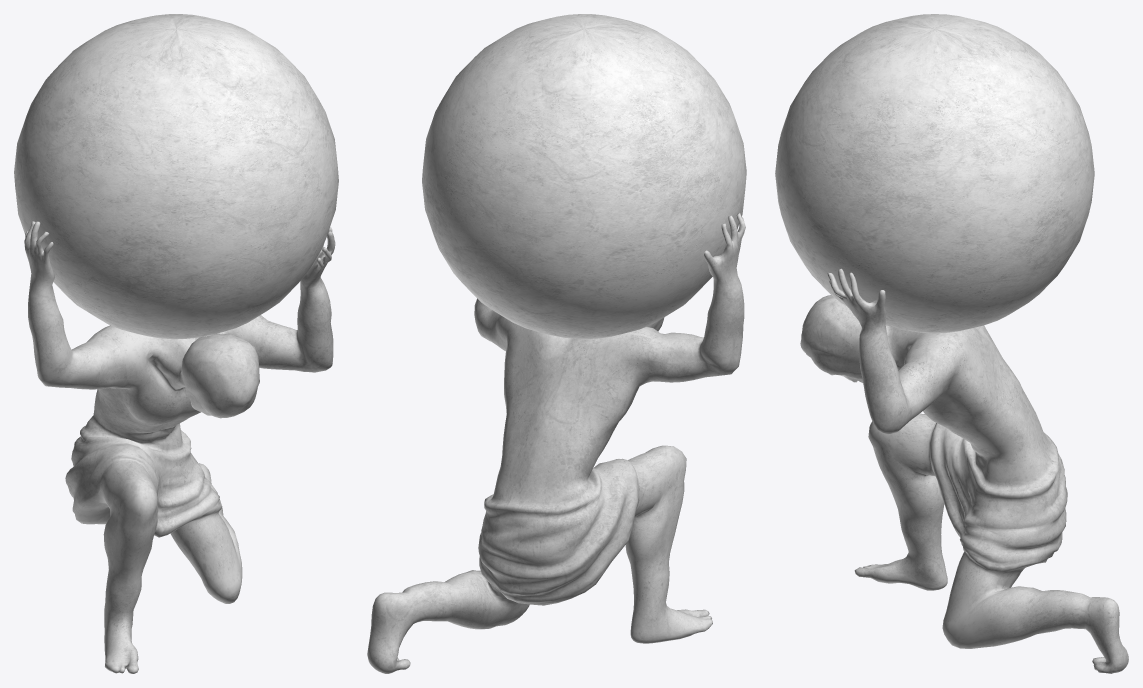
The model's file is RC_Statue_08.gltf.
The picture shows the model from 3 angles, left to right: view 1: azimuth 30°, elevation 25°; view 2: azimuth 150°, elevation 25°; view 3: azimuth 270°, elevation 25°; orthographic projection.
Visible parts, largest first — view 1: RC_Statue_08(Clone); view 2: RC_Statue_08(Clone); view 3: RC_Statue_08(Clone).
Part boxes in pixels (x1,y1,x2,y2): RC_Statue_08(Clone): (14,14,338,673); RC_Statue_08(Clone): (367,14,746,673); RC_Statue_08(Clone): (775,14,1128,673).
Size of the model in its own units: 2.61 by 5.12 by 2.78.
2 materials, 2 textured.
